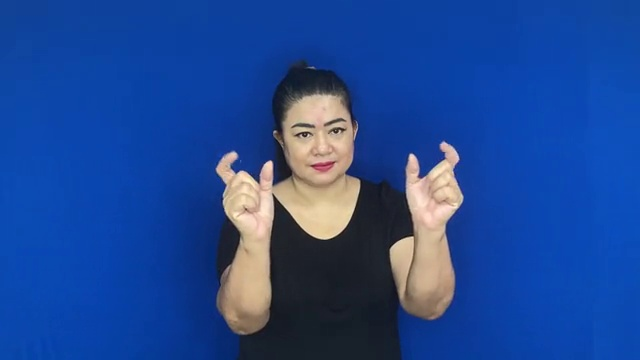crab: (205, 133, 468, 246)
